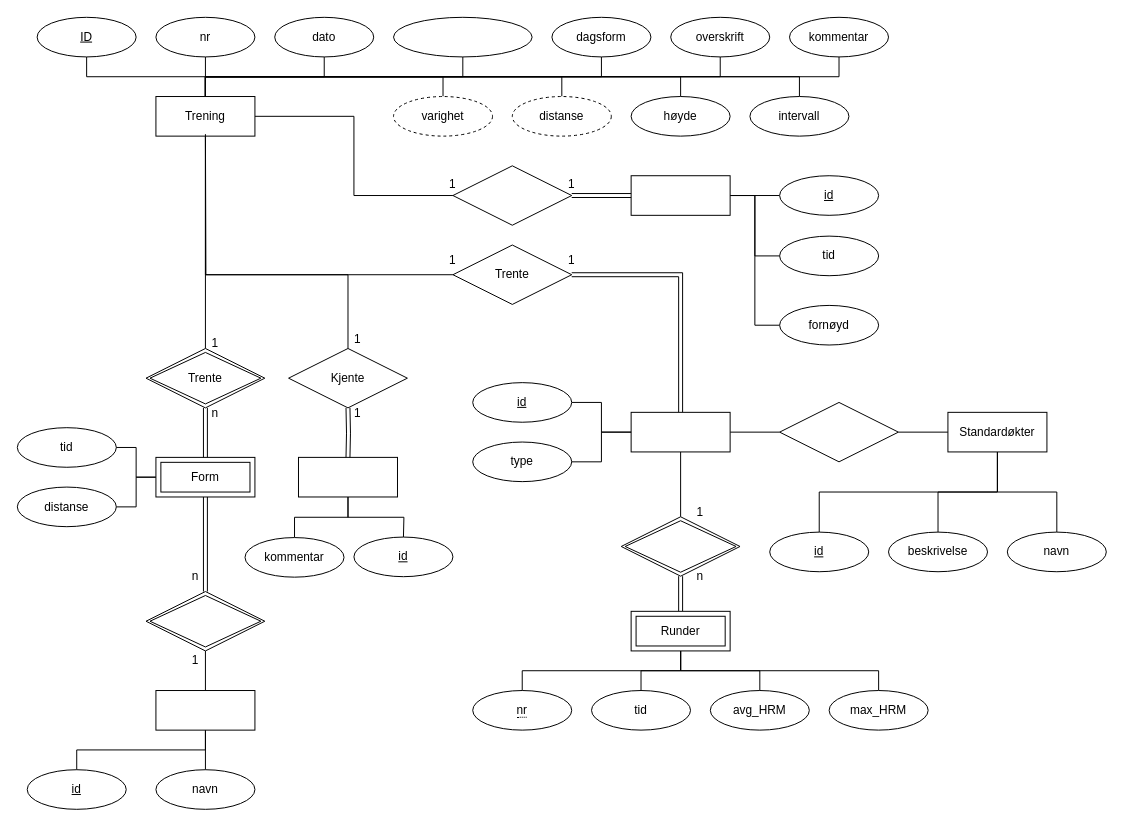
Image size: 1124x827. Some labels were removed from this diagram. Here are the shapes that lost their labels. From the top down, the centre of each, then its label:
At [462,36]: "opplevd_anstrenglese".
At [512,195]: "Konkurrerte".
At [680,195]: "Konkurranse".
At [680,431]: "Standardøkt".
At [838,431]: "Er".
At [347,476]: "Skade".
At [680,546]: "Med".
At [205,621]: "har".
At [205,710]: "Bevegelsesform".
